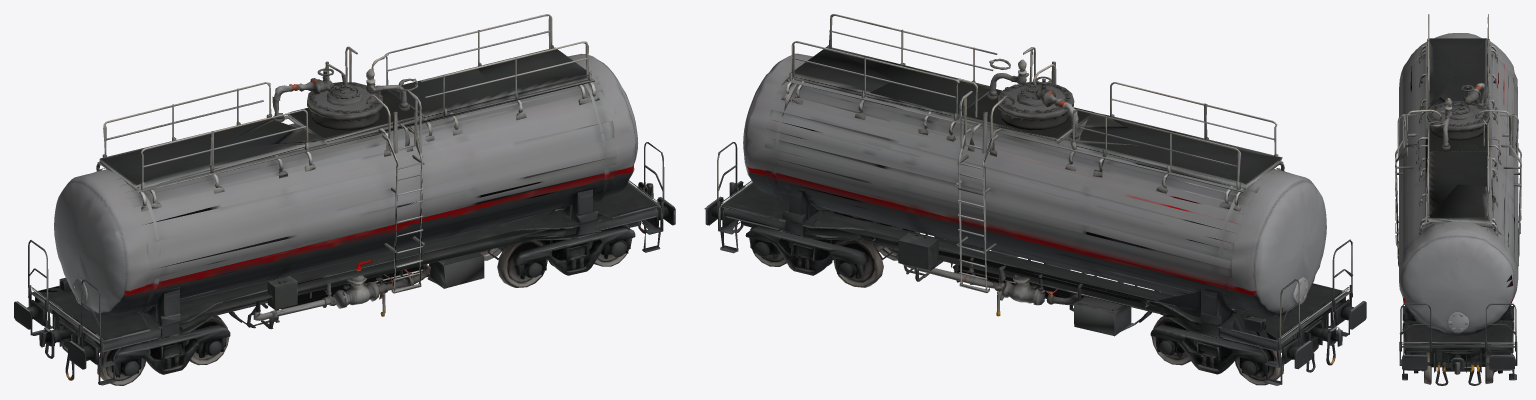
The model's file is wagon_tank.glb.
3 views of the same model, side by side, from view 1: azimuth 30°, elevation 25°; view 2: azimuth 150°, elevation 25°; view 3: azimuth 270°, elevation 25° (orthographic). The views are drawn at different scales.
Size of the model in its own units: 0.9463 by 0.3589 by 0.2104.
Materials: 1 (1 with a texture image).
